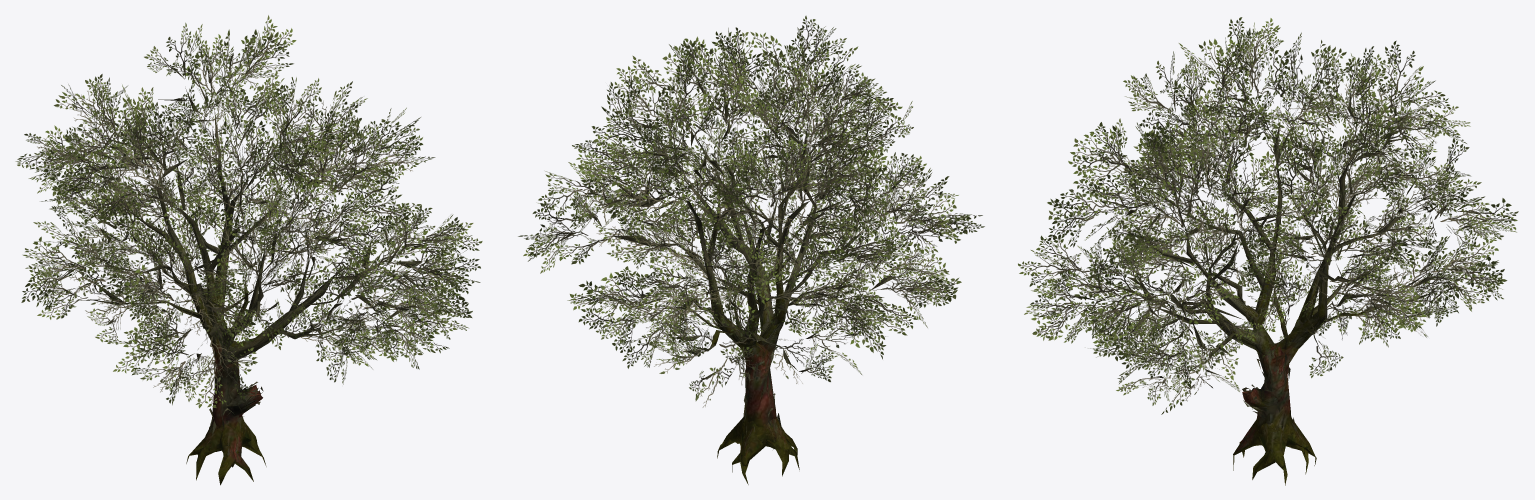
Rendered from oak.glb.
3 renders of one model, left to right at view 1: azimuth 30°, elevation 25°; view 2: azimuth 150°, elevation 25°; view 3: azimuth 270°, elevation 25°, orthographic. The views are drawn at different scales.
Parts seen in each view (by area): view 1: leaves, bark; view 2: leaves, bark; view 3: leaves, bark.
Boxes of the visible parts, x1,y1,x2,y2 form: leaves: (15,15,482,408); bark: (42,53,450,485); leaves: (518,15,984,407); bark: (551,48,943,484); leaves: (1018,17,1518,414); bark: (1046,54,1489,485).
Size of the model in its own units: 21.08 by 22.61 by 24.12.
Materials: 2 (2 with a texture image).
